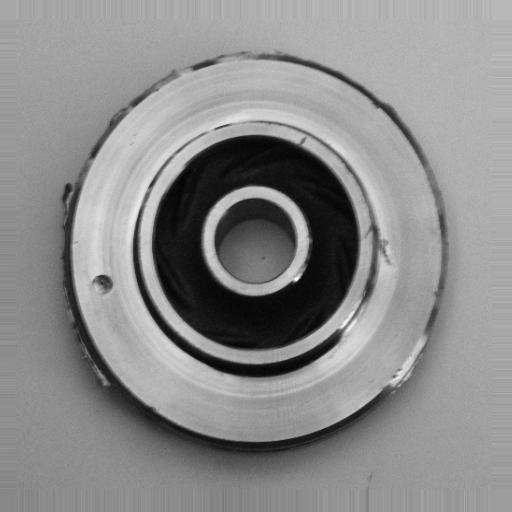casting_with_burr: (57, 45, 452, 452)
crack: (362, 216, 401, 272)
pit: (87, 270, 121, 300)
scratch: (337, 288, 376, 343), (290, 222, 318, 292)
